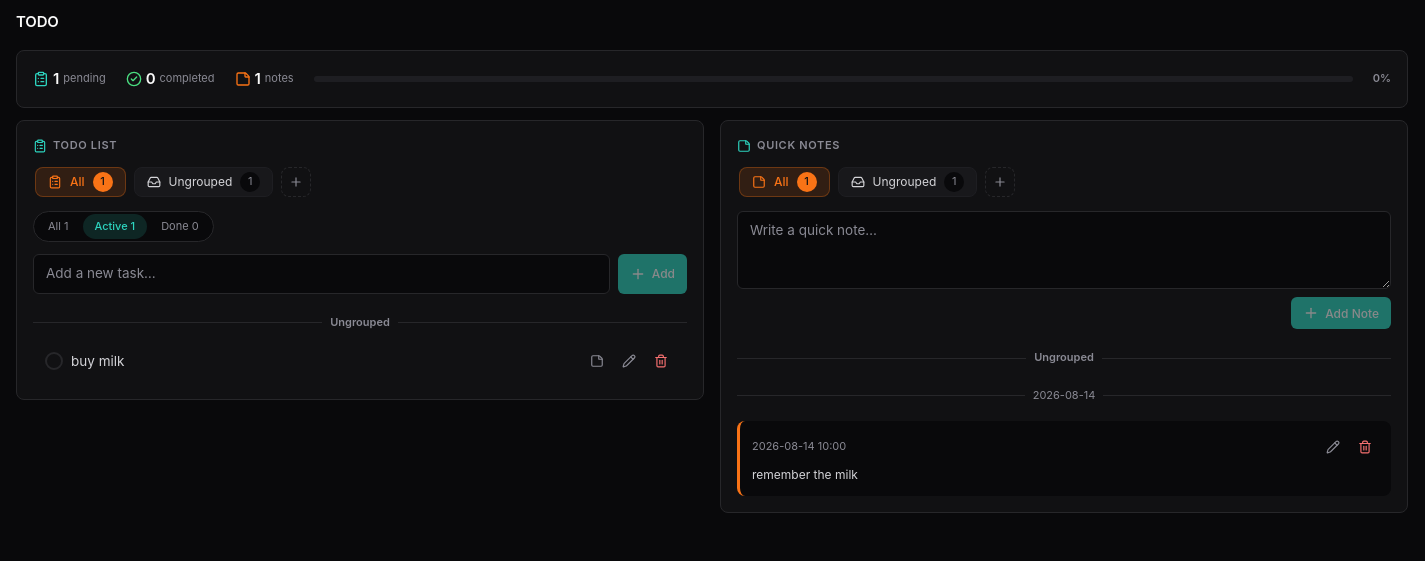
Test: TodoPage › keeps existing items and shows an error when adding fails
Expected: the text "buy milk" is shown, x1=71 y1=353 x2=124 y2=369
Type "oops" into the field with placeholder "Add a new task…" at (321, 274), box x1=33 y1=254 x2=610 y2=294
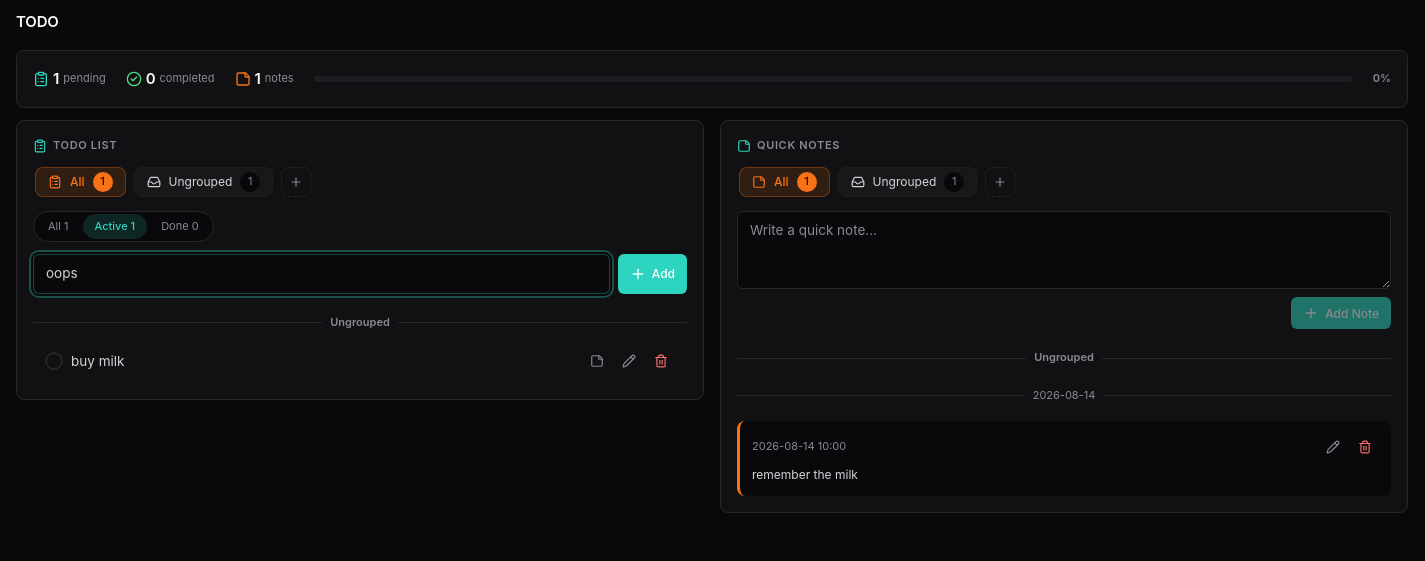
Click the button "Add" at (652, 274), box x1=618 y1=254 x2=687 y2=294
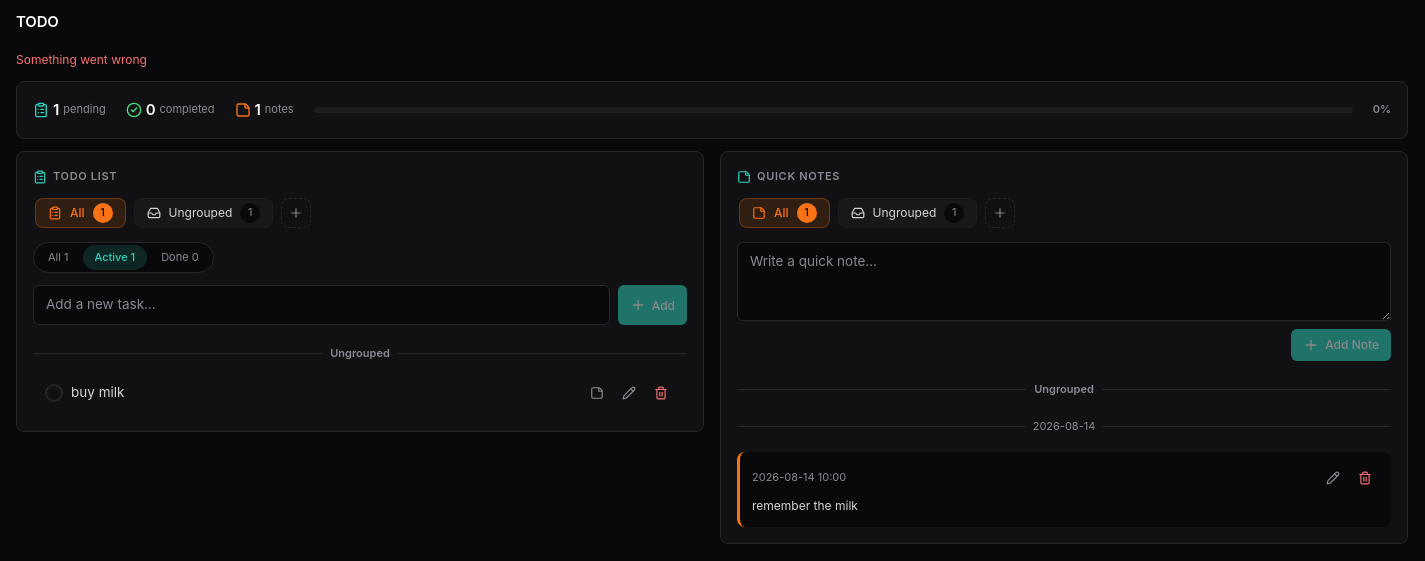
Expected: the text "buy milk" is shown, x1=71 y1=384 x2=124 y2=400
Expected: the text "Something went wrong" is shown, x1=16 y1=52 x2=147 y2=67
